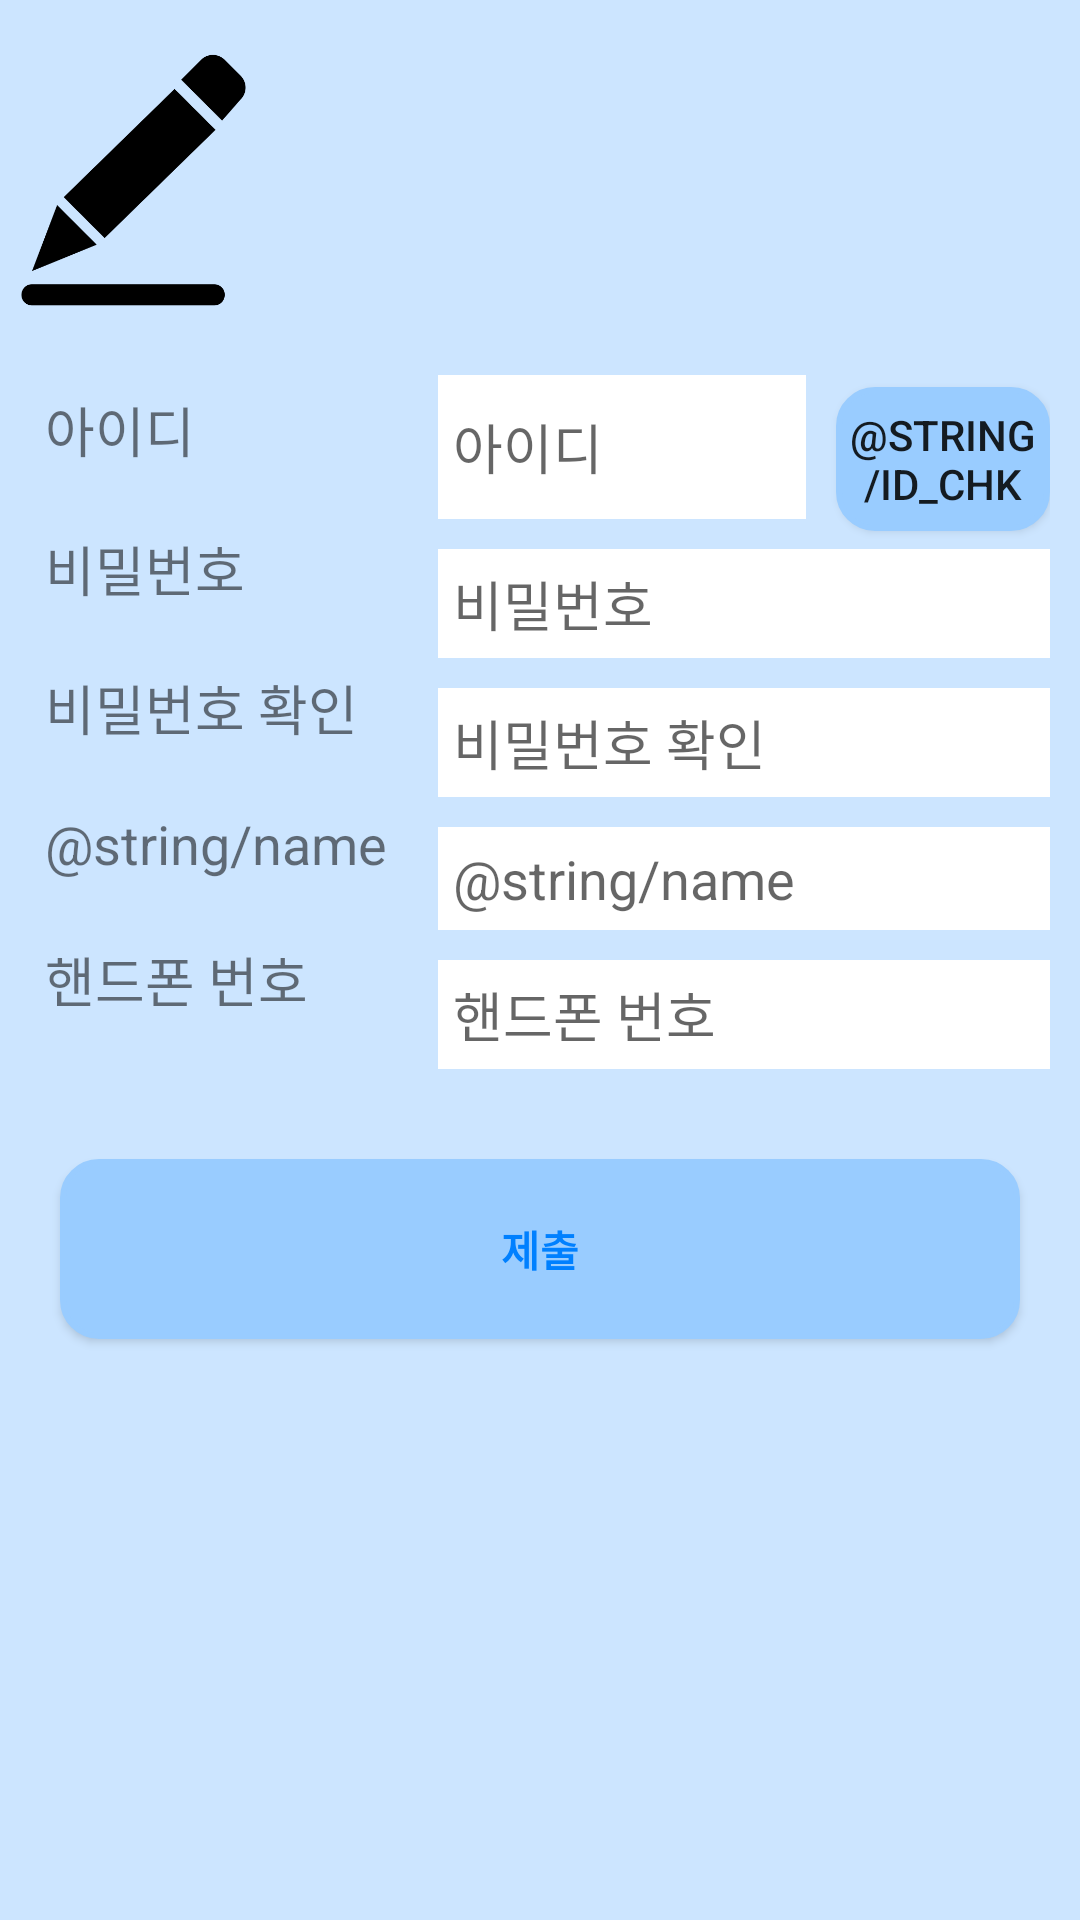

Where to tap for icons on this 1080×1920 app screen, as (x=x, y=y):
register: (x=133, y=180)
